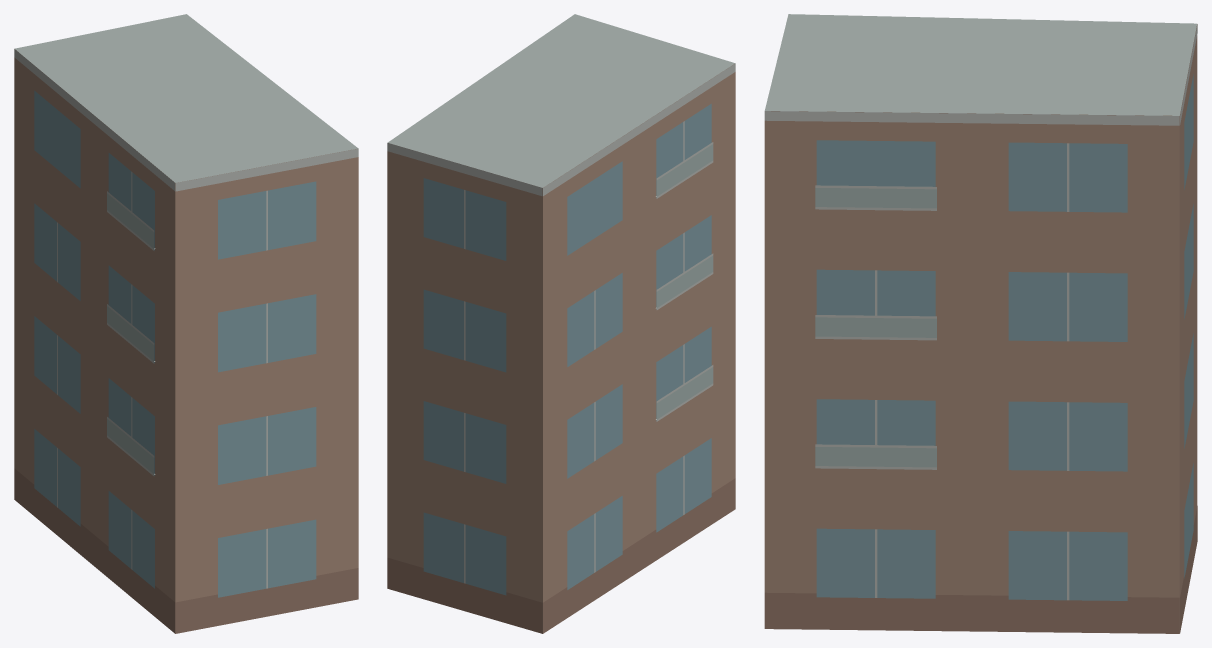
Rendered from survey-upis-33038300.glb.
3 views of the same model, side by side, from view 1: azimuth 30°, elevation 25°; view 2: azimuth 150°, elevation 25°; view 3: azimuth 270°, elevation 25° (orthographic). The views are drawn at different scales.
Visible parts, largest first — view 1: survey-upis-33038300.tmp; view 2: survey-upis-33038300.tmp; view 3: survey-upis-33038300.tmp.
Boxes of the visible parts, x1,y1,x2,y2 form: survey-upis-33038300.tmp: (14,14,358,633); survey-upis-33038300.tmp: (387,14,735,633); survey-upis-33038300.tmp: (764,14,1197,633).
Size of the model in its own units: 5.41 by 12.8 by 9.7.
